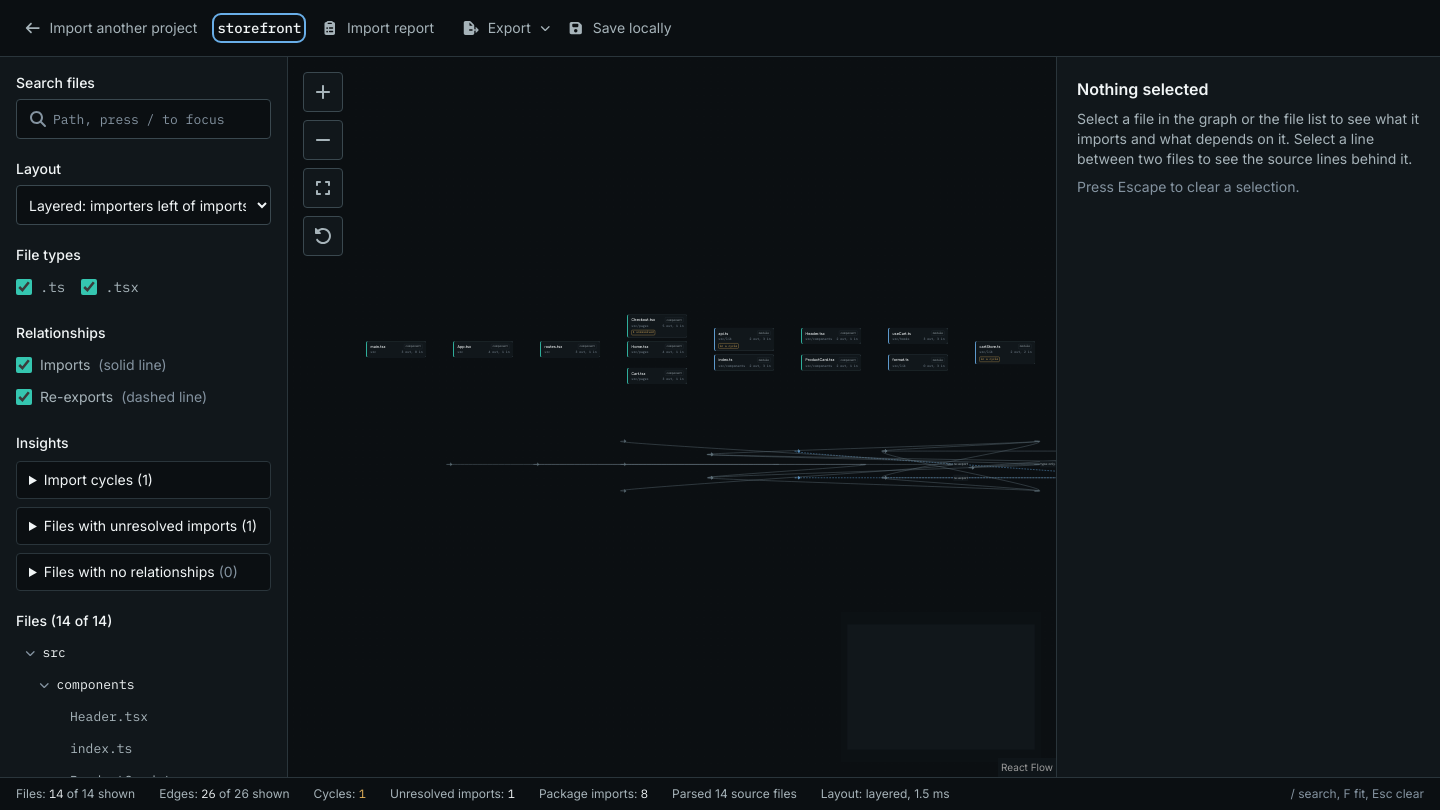
Scenario: Workspace with a multi-file project › filters by search and says so in the status bar
Type "pages/" into the field labelled "Search files" at (144, 119), box [16, 99, 271, 139]
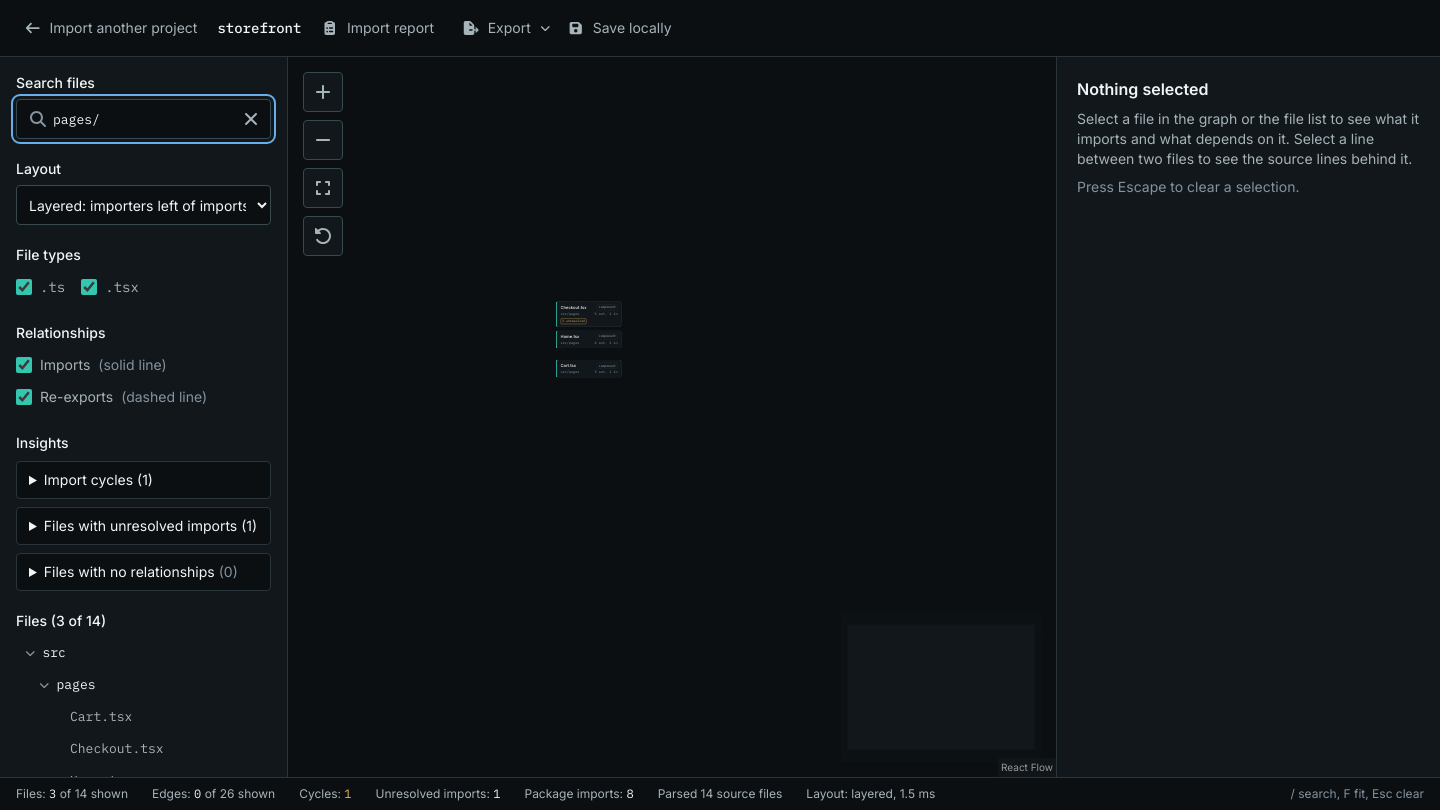
Check: the message shows "Files: 3 of 14 shown", box [0, 777, 1439, 809]
Replace the text in the field labelled "Search files" with "zzz" at (144, 119), box [16, 99, 271, 139]
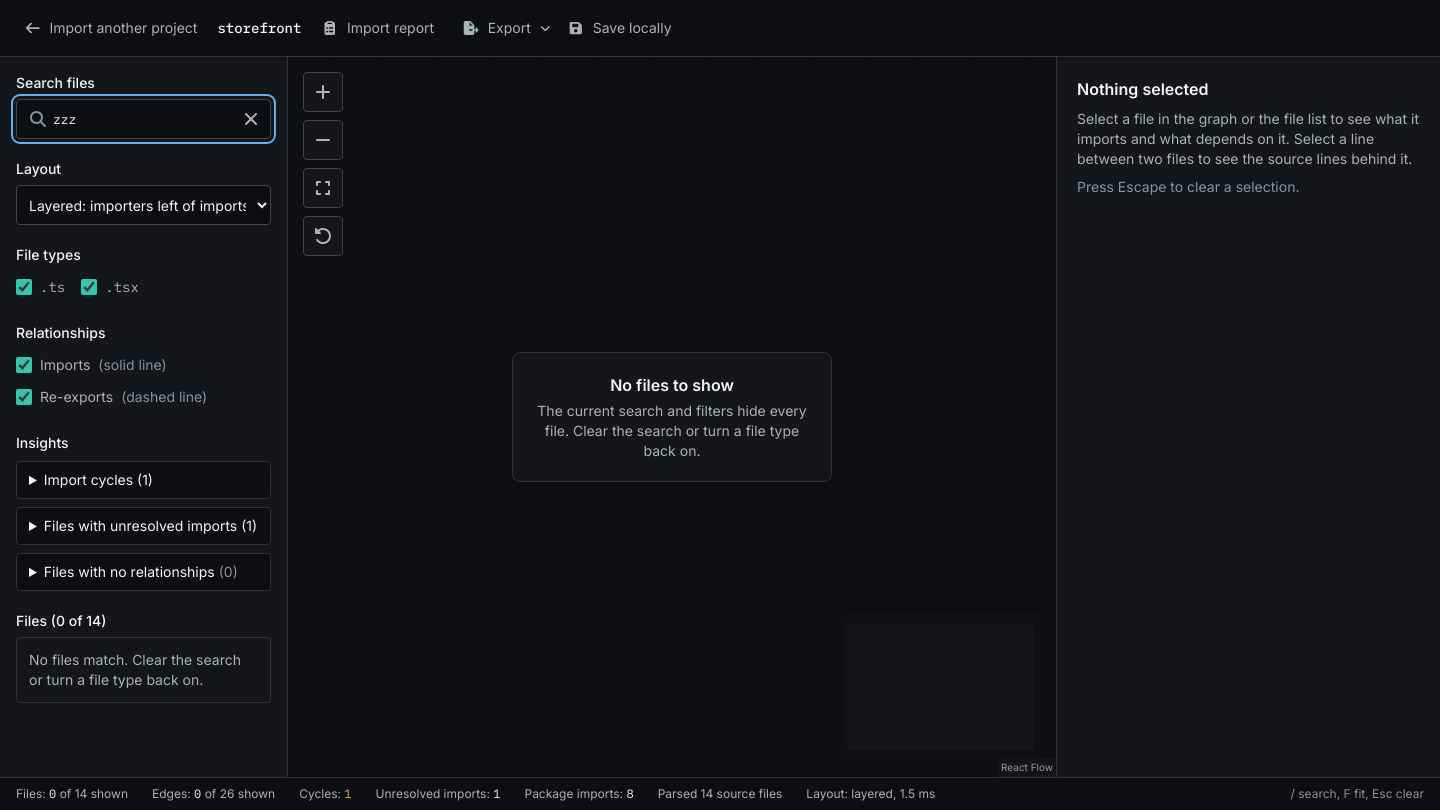
Check: the heading "No files to show" is shown, box [610, 375, 734, 395]
